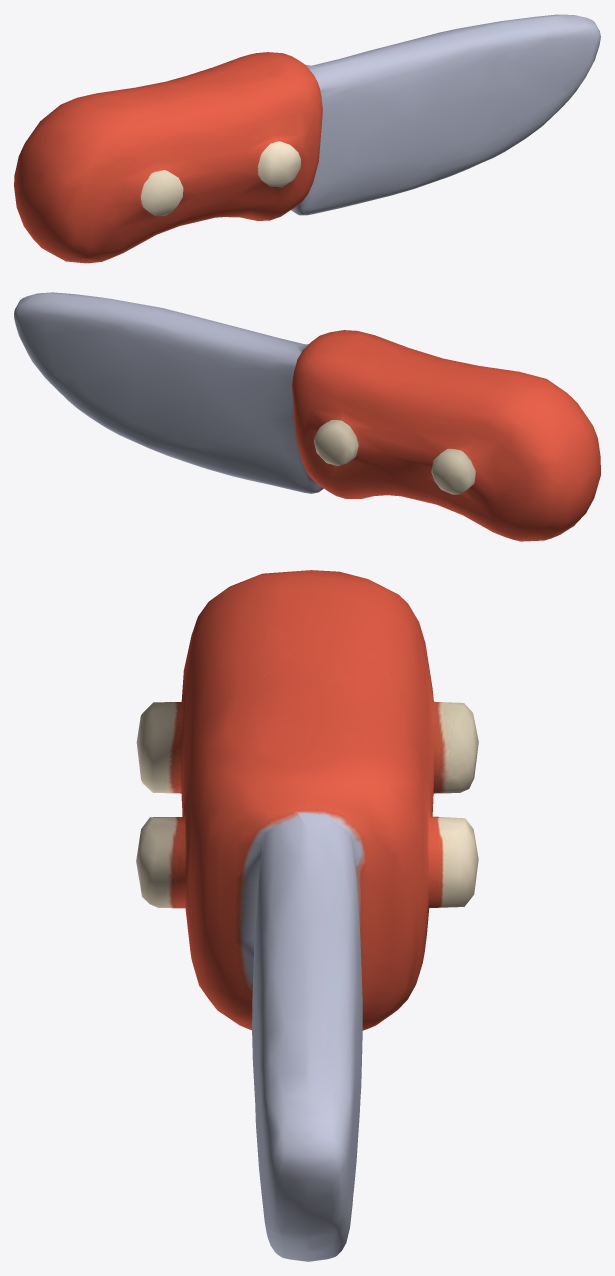
Rendered from knife.glb.
3 views of the same model, one above another, from view 1: azimuth 30°, elevation 25°; view 2: azimuth 150°, elevation 25°; view 3: azimuth 270°, elevation 25° (orthographic). The views are drawn at different scales.
Visible parts, largest first — view 1: tripo_node_c86b3867-1849-4e51-8044-f96b7ff03b45; view 2: tripo_node_c86b3867-1849-4e51-8044-f96b7ff03b45; view 3: tripo_node_c86b3867-1849-4e51-8044-f96b7ff03b45.
Boxes of the visible parts, <box> form: tripo_node_c86b3867-1849-4e51-8044-f96b7ff03b45: <box>14,14,600,263</box>; tripo_node_c86b3867-1849-4e51-8044-f96b7ff03b45: <box>14,292,600,541</box>; tripo_node_c86b3867-1849-4e51-8044-f96b7ff03b45: <box>136,570,478,1261</box>.
Bounding box in the file's own units: 0.9807 × 0.26 × 0.2545.
1 material, 1 textured.
